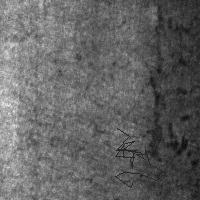crazing: (27, 115, 145, 185), (146, 3, 194, 164), (115, 128, 165, 187)
